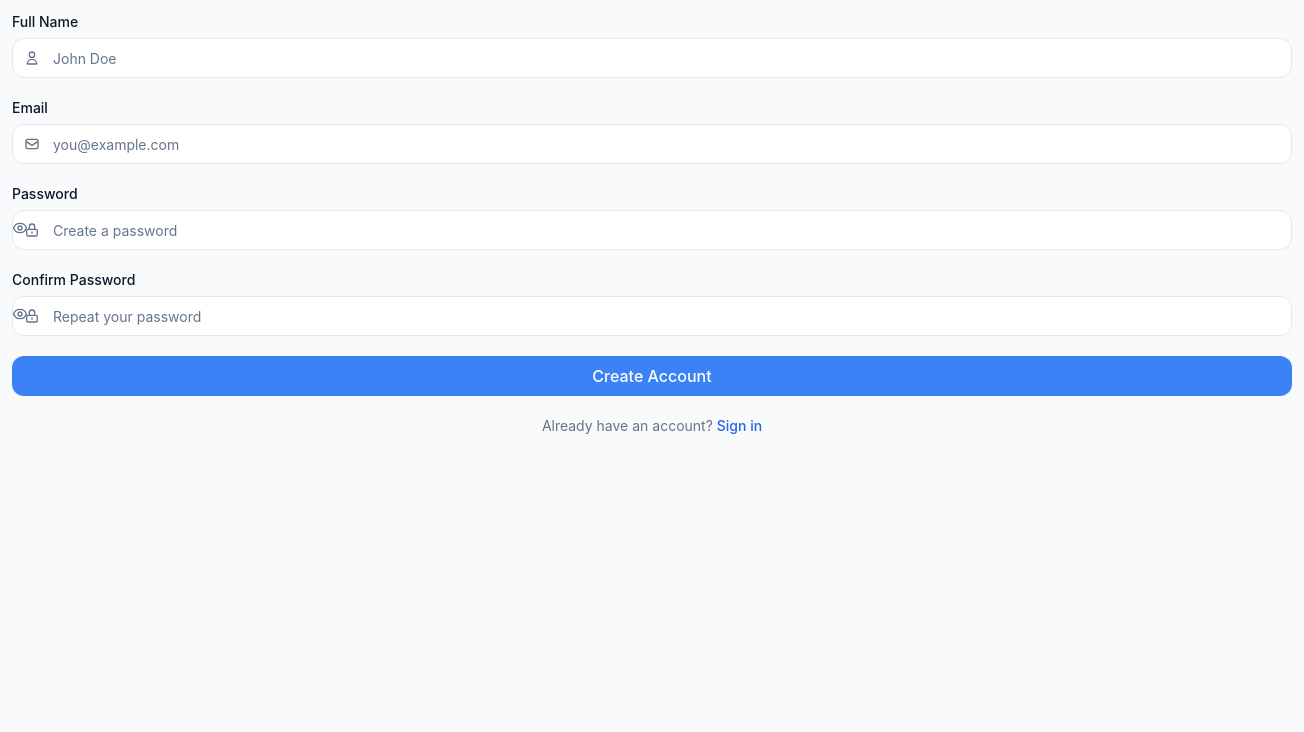
Test case: RegisterForm › validates email format
In the field labelled "Full Name": (652, 58) [12,38,1292,78], type "Test User"
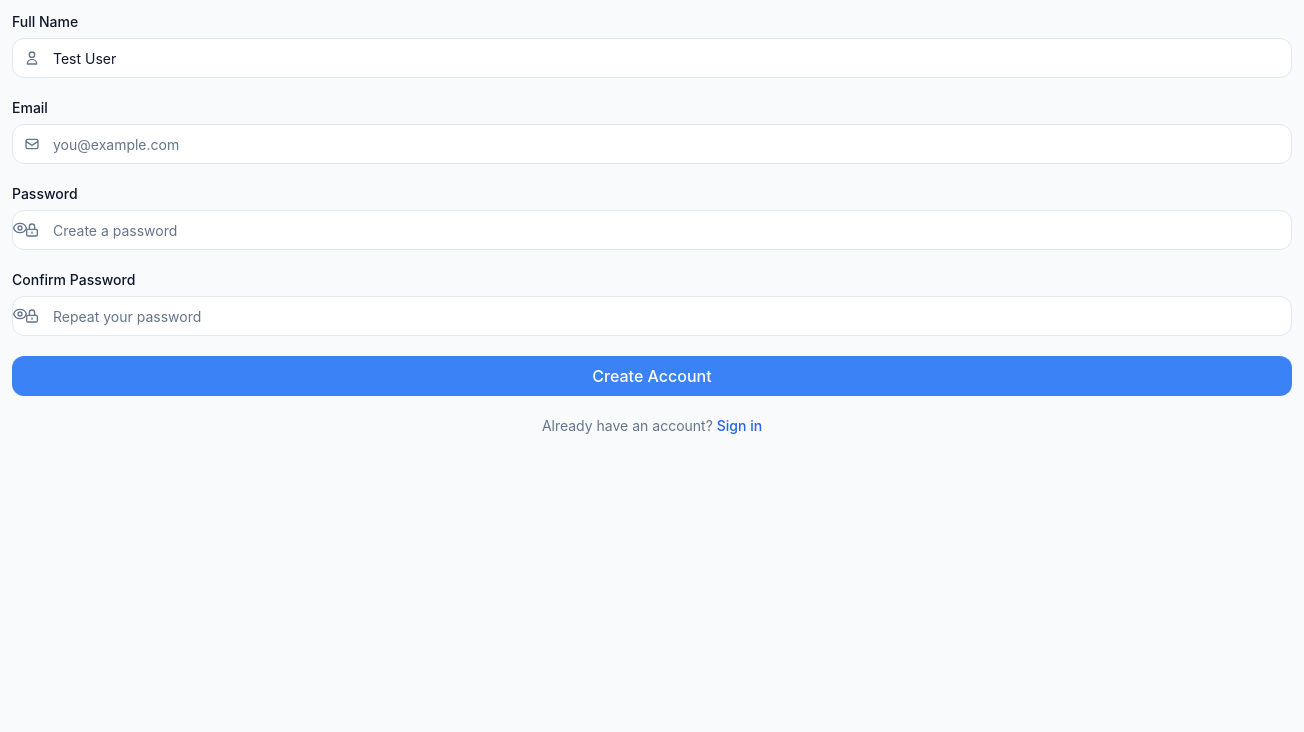
In the field labelled "Email": (652, 144) [12,124,1292,164], type "invalid"
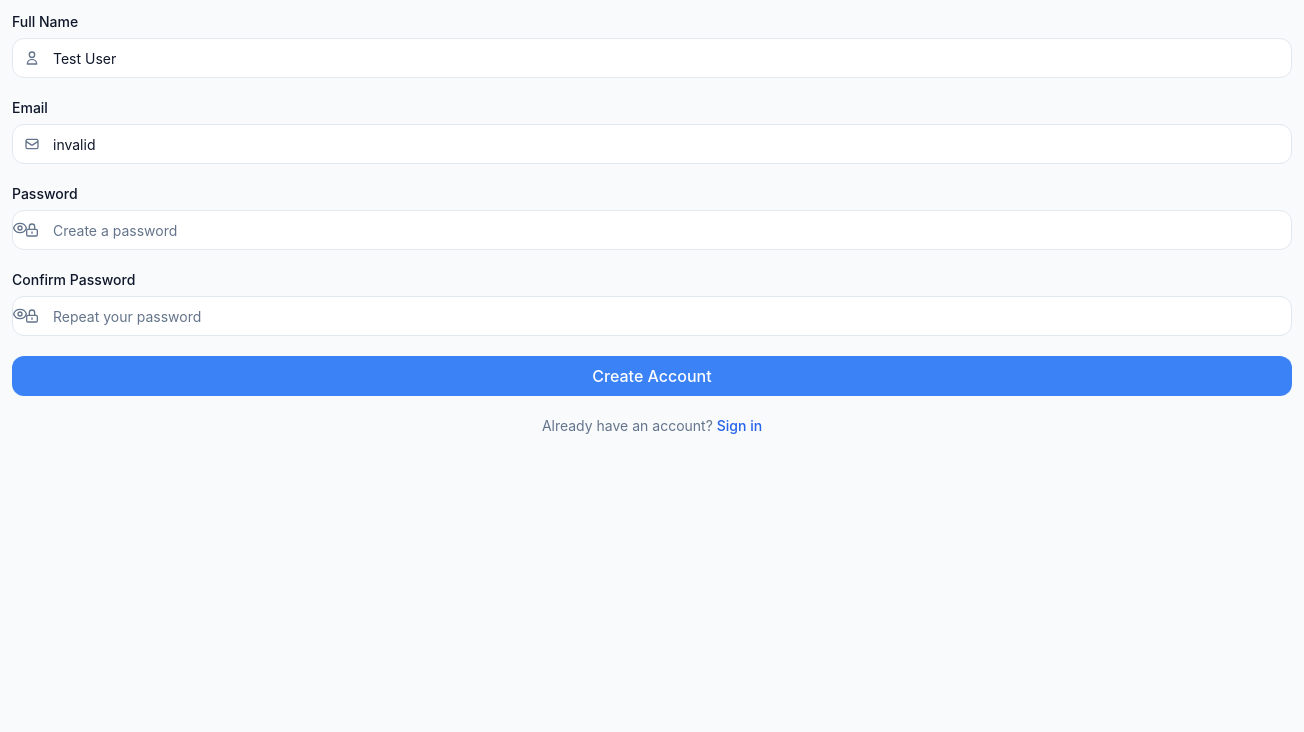
Click the button "Create Account": (652, 376) [12,356,1292,396]
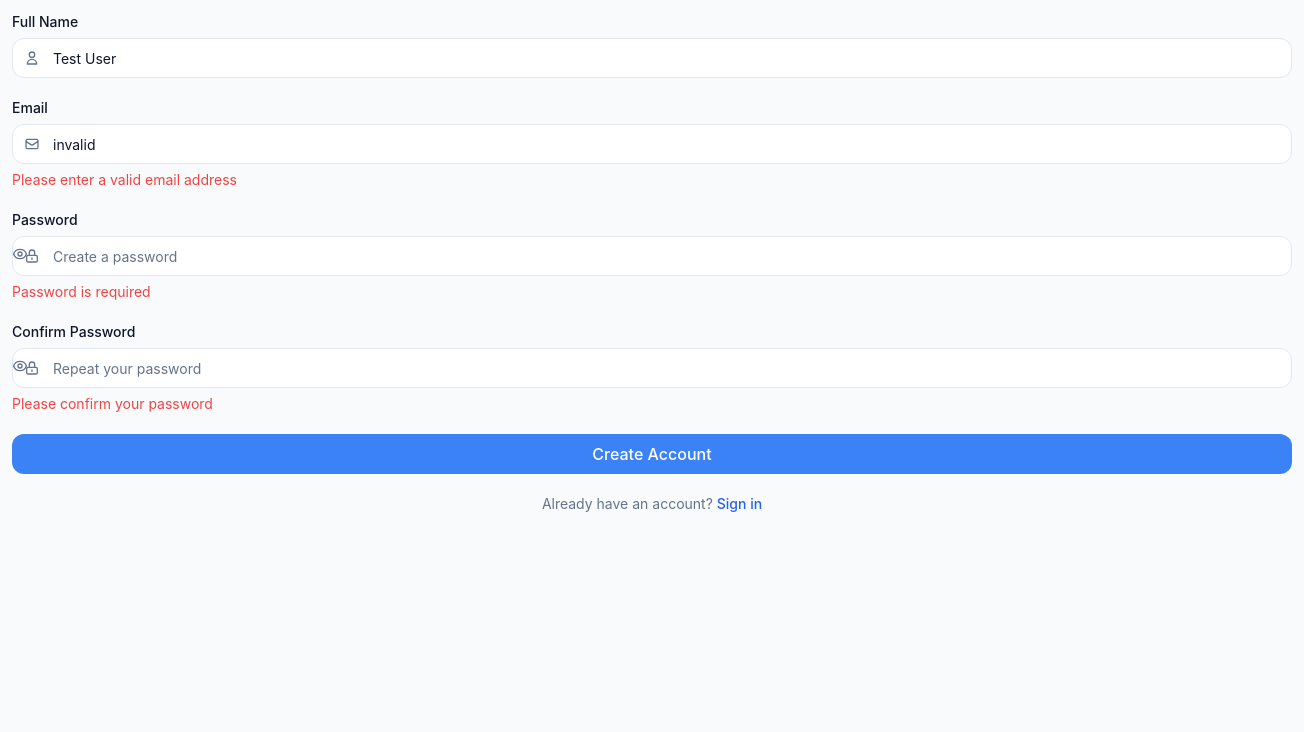
expect the text "Please enter a valid email address" is shown: met, box [12,171,237,188]
